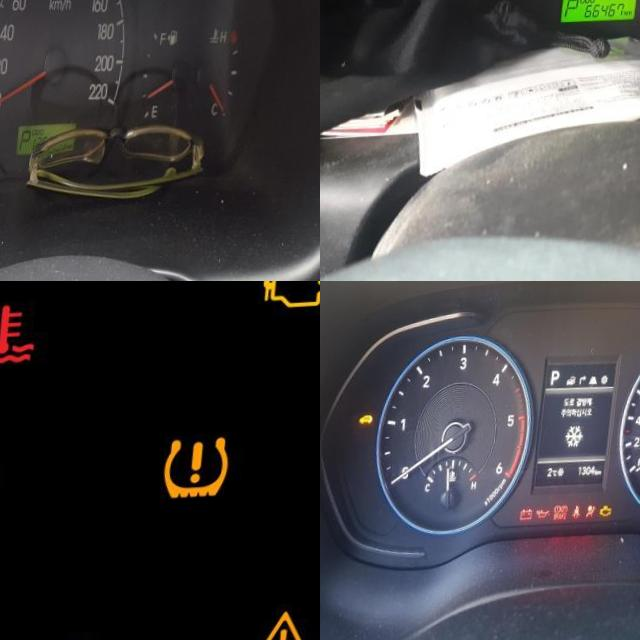High Engine Coolant Temperature: (0, 290, 53, 381)
